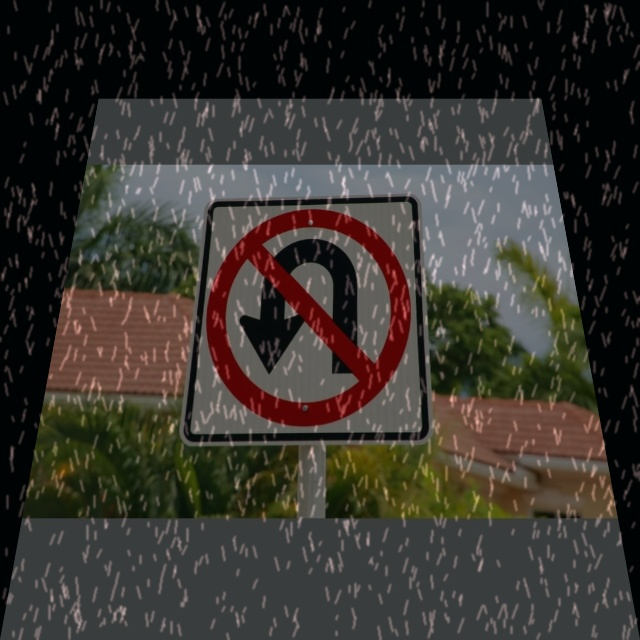U_Turn_Prohibited: (197, 204, 426, 431)
